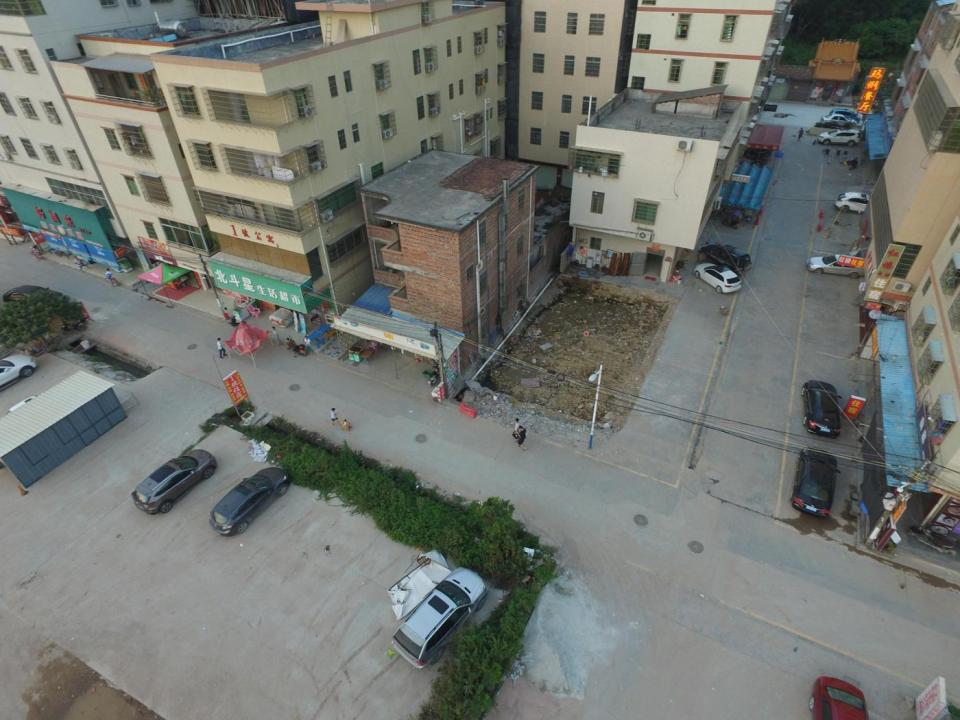car: (391, 569, 486, 670), (134, 447, 216, 516), (209, 469, 288, 534), (789, 446, 841, 518), (807, 676, 872, 720), (801, 379, 841, 437), (0, 353, 36, 408), (699, 243, 751, 276), (804, 254, 869, 278), (692, 263, 742, 292), (4, 284, 61, 308), (836, 191, 879, 215), (818, 128, 861, 146), (818, 114, 855, 132), (830, 108, 860, 122)
